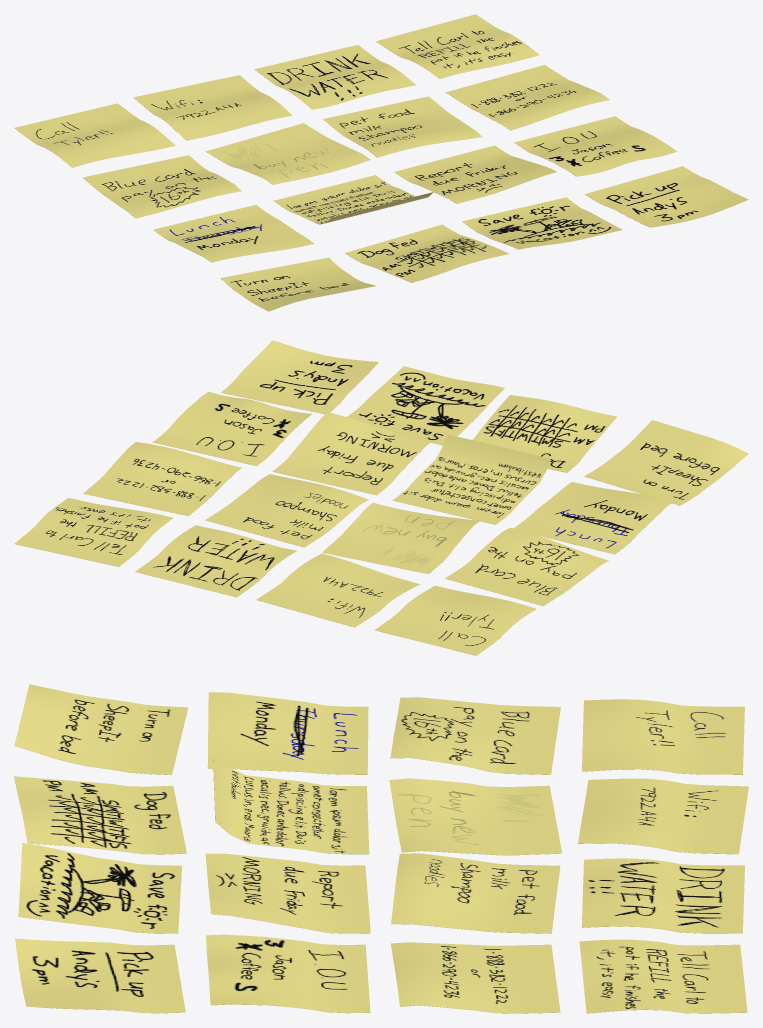
Rendered from sticky notes 1.fbx.
3 renders of one model, top to bottom at view 1: azimuth 30°, elevation 25°; view 2: azimuth 150°, elevation 25°; view 3: azimuth 270°, elevation 25°, orthographic. The views are drawn at different scales.
Visible parts, largest first — view 1: StickyNote.013, StickyNote.015, StickyNote.012, StickyNote.014, StickyNote.003, StickyNote.011, StickyNote.009, StickyNote.008, StickyNote.010, StickyNote.007, StickyNote.004, StickyNote.006 (+4 smaller); view 2: StickyNote.005, StickyNote, StickyNote.006, StickyNote.002, StickyNote.008, StickyNote.011, StickyNote.007, StickyNote.010, StickyNote.004, StickyNote.003, StickyNote.009, StickyNote.014 (+4 smaller); view 3: StickyNote.004, StickyNote.009, StickyNote.010, StickyNote.002, StickyNote.015, StickyNote.012, StickyNote.014, StickyNote, StickyNote.007, StickyNote.003, StickyNote.013, StickyNote.001 (+4 smaller).
Boxes of the visible parts, <box> form: StickyNote.013: <box>133,75,292,140</box>; StickyNote.015: <box>376,14,539,78</box>; StickyNote.012: <box>14,103,175,167</box>; StickyNote.014: <box>254,45,415,109</box>; StickyNote.003: <box>584,166,748,227</box>; StickyNote.011: <box>445,65,609,130</box>; StickyNote.009: <box>206,123,370,184</box>; StickyNote.008: <box>82,155,241,218</box>; StickyNote.010: <box>323,96,481,157</box>; StickyNote.007: <box>514,116,676,176</box>; StickyNote.004: <box>153,205,314,262</box>; StickyNote.006: <box>394,145,556,203</box>; StickyNote.005: <box>392,434,550,524</box>; StickyNote: <box>584,420,748,505</box>; StickyNote.006: <box>272,412,431,495</box>; StickyNote.002: <box>347,366,504,445</box>; StickyNote.008: <box>445,527,608,605</box>; StickyNote.011: <box>83,442,241,515</box>; StickyNote.007: <box>152,391,312,465</box>; StickyNote.010: <box>205,474,368,547</box>; StickyNote.004: <box>513,482,673,554</box>; StickyNote.003: <box>221,340,378,414</box>; StickyNote.009: <box>322,502,479,573</box>; StickyNote.014: <box>135,525,296,597</box>; StickyNote.004: <box>207,692,368,774</box>; StickyNote.009: <box>389,778,561,855</box>; StickyNote.010: <box>391,853,560,933</box>; StickyNote.002: <box>18,843,182,933</box>; StickyNote.015: <box>579,939,747,1013</box>; StickyNote.012: <box>582,699,744,774</box>; StickyNote.014: <box>581,858,744,933</box>; StickyNote: <box>14,684,188,774</box>; StickyNote.007: <box>206,934,370,1013</box>; StickyNote.003: <box>15,938,185,1013</box>; StickyNote.013: <box>578,778,748,854</box>; StickyNote.001: <box>14,776,186,854</box>.
Size of the model in its own units: 35.46 by 1.73 by 34.77.
Materials: 1 (1 with a texture image).
